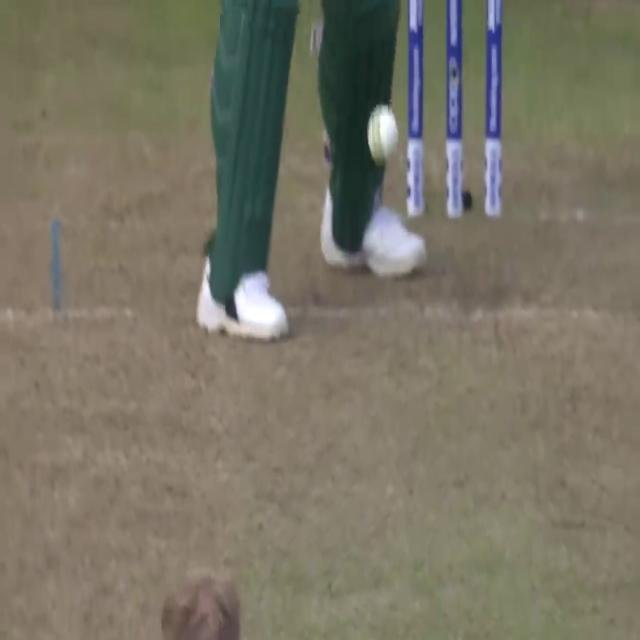ball: (362, 100, 403, 170)
